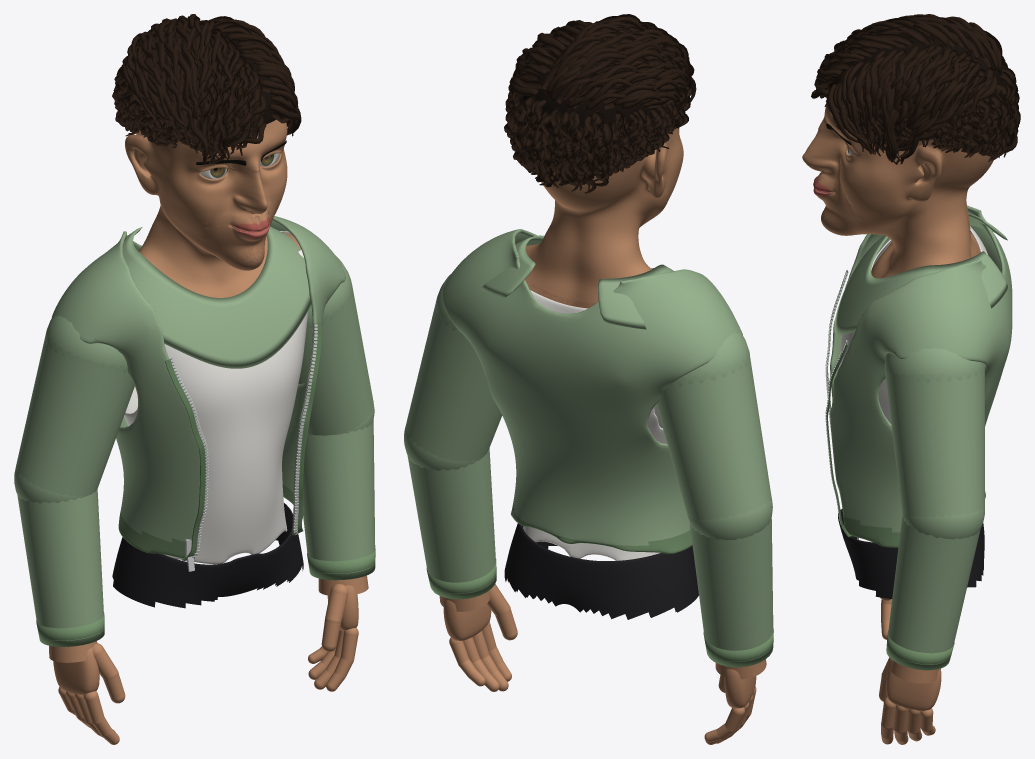
Rendered from eric.glb.
3 renders of one model, left to right at view 1: azimuth 30°, elevation 25°; view 2: azimuth 150°, elevation 25°; view 3: azimuth 270°, elevation 25°, orthographic. The views are drawn at different scales.
Visible parts, largest first — view 1: X_JacketBody, X_HairStrands, X_Tee, X_Body, ArmR_upper, X_Collar, ArmR_fore, ArmL_fore, X_Jeans, ArmL_upper, X_ZipTape, ArmR_hand (+5 smaller); view 2: X_JacketBody, X_HairStrands, ArmR_upper, X_Body, X_Jeans, ArmL_upper, ArmL_fore, ArmR_fore, X_Collar, X_Tee, ArmL_hand, X_HairMass (+3 smaller); view 3: X_JacketBody, X_HairStrands, X_Body, ArmL_upper, ArmL_fore, X_Collar, X_Jeans, ArmL_hand, ArmL_cuff, X_HairMass, X_Tee, X_ZipTape (+1 smaller).
Part boxes in pixels (x1=…): X_JacketBody: x1=51, y1=216, x2=345, y2=558; X_HairStrands: x1=112, y1=14, x2=301, y2=164; X_Tee: x1=124, y1=231, x2=308, y2=564; X_Body: x1=125, y1=119, x2=300, y2=297; ArmR_upper: x1=14, y1=315, x2=134, y2=503; X_Collar: x1=108, y1=226, x2=311, y2=368; ArmR_fore: x1=17, y1=489, x2=104, y2=640; ArmL_fore: x1=302, y1=421, x2=375, y2=573; X_Jeans: x1=112, y1=503, x2=303, y2=608; ArmL_upper: x1=298, y1=255, x2=374, y2=435; X_ZipTape: x1=165, y1=323, x2=321, y2=560; ArmR_hand: x1=49, y1=641, x2=99, y2=695; X_JacketBody: x1=442, y1=229, x2=742, y2=553; X_HairStrands: x1=504, y1=14, x2=696, y2=193; ArmR_upper: x1=656, y1=332, x2=772, y2=540; X_Body: x1=525, y1=127, x2=683, y2=308; X_Jeans: x1=504, y1=523, x2=698, y2=619; ArmL_upper: x1=404, y1=274, x2=502, y2=470; ArmL_fore: x1=407, y1=448, x2=496, y2=594; ArmR_fore: x1=689, y1=518, x2=773, y2=661; X_Collar: x1=481, y1=235, x2=673, y2=329; X_Tee: x1=523, y1=290, x2=667, y2=560; ArmL_hand: x1=439, y1=590, x2=491, y2=640; X_HairMass: x1=522, y1=37, x2=653, y2=167; X_JacketBody: x1=830, y1=205, x2=1012, y2=547; X_HairStrands: x1=811, y1=14, x2=1020, y2=164; X_Body: x1=802, y1=105, x2=995, y2=278; ArmL_upper: x1=884, y1=348, x2=984, y2=539; ArmL_fore: x1=886, y1=515, x2=980, y2=664; X_Collar: x1=834, y1=213, x2=1007, y2=335; X_Jeans: x1=838, y1=509, x2=984, y2=598; ArmL_hand: x1=886, y1=660, x2=941, y2=711; ArmL_cuff: x1=886, y1=631, x2=954, y2=670; X_HairMass: x1=829, y1=38, x2=1001, y2=136; X_Tee: x1=839, y1=226, x2=988, y2=542; X_ZipTape: x1=826, y1=270, x2=851, y2=537.
Size of the model in its own units: 0.6775 by 1.27 by 0.3733.
17 materials, 3 textured.
